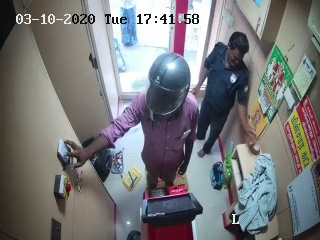helmet: (143, 50, 193, 122)
